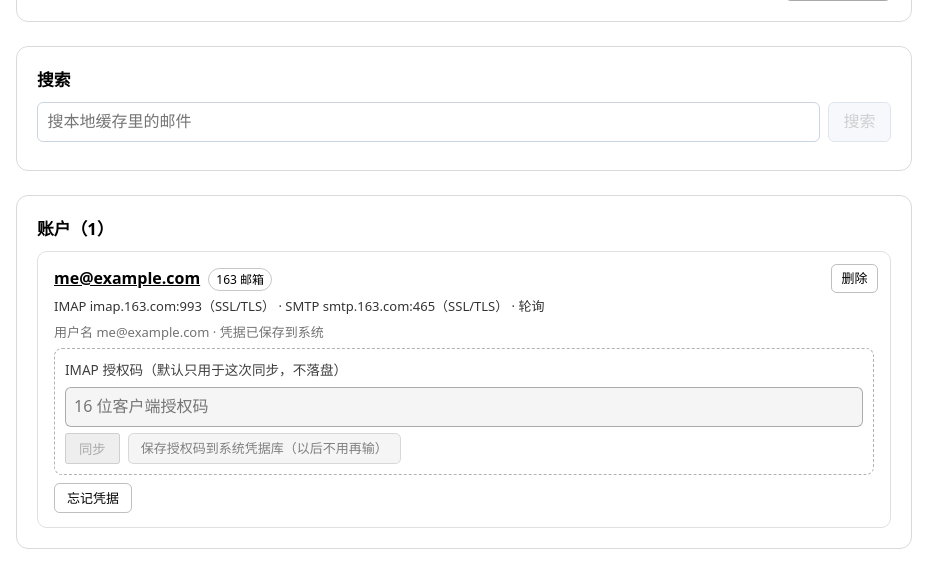
it: 邮件正文渲染 › 后端给了 HTML 就按 HTML 显示，不当成源码打印
(page scrolled)
Step 1. Click the button "me@example.com" → x=127, y=278, box [54,266,200,291]
(page scrolled)
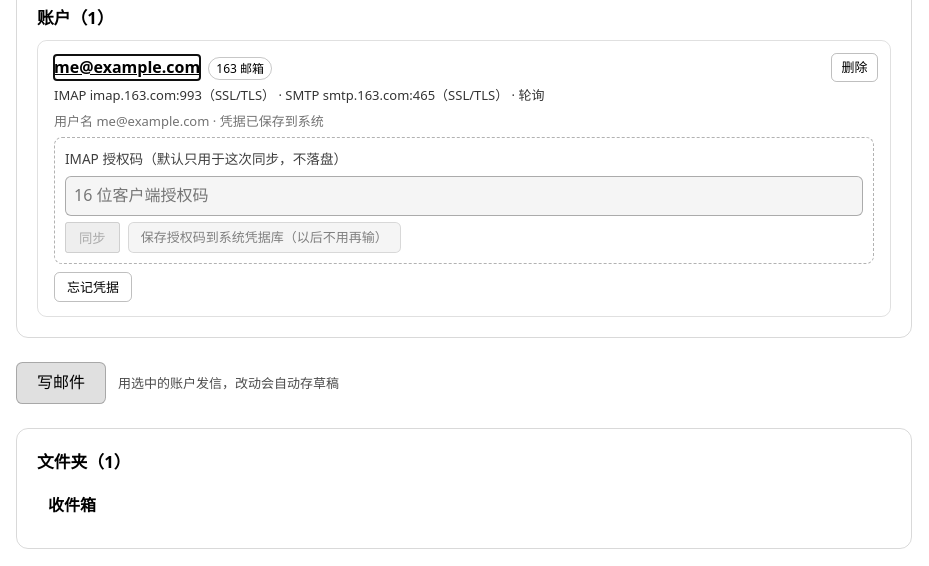
Step 2. Click the button "收件箱" → x=72, y=505, box [37,484,891,528]
(page scrolled)
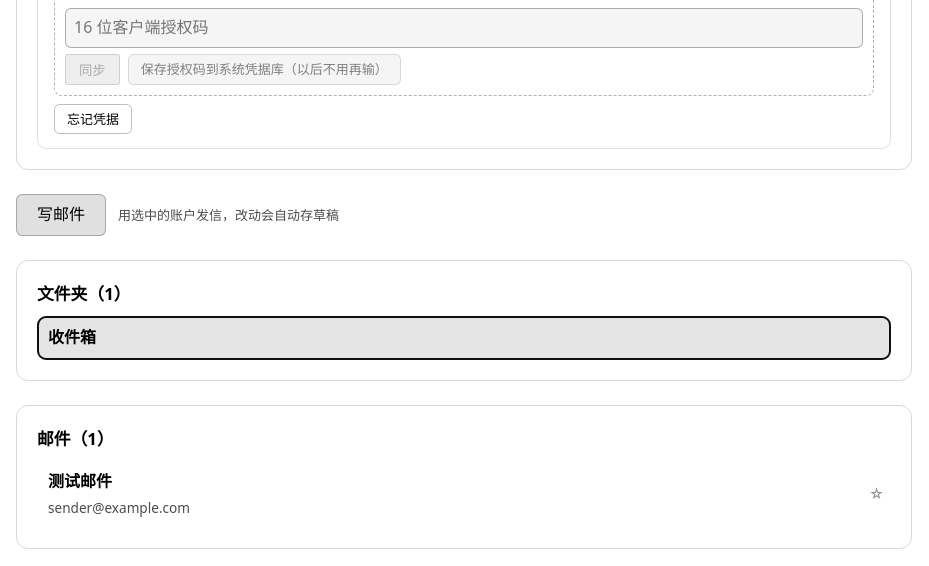
Step 3. Click the button "测试邮件 sender@example.com" → x=80, y=481, box [37,460,860,528]
(page scrolled)
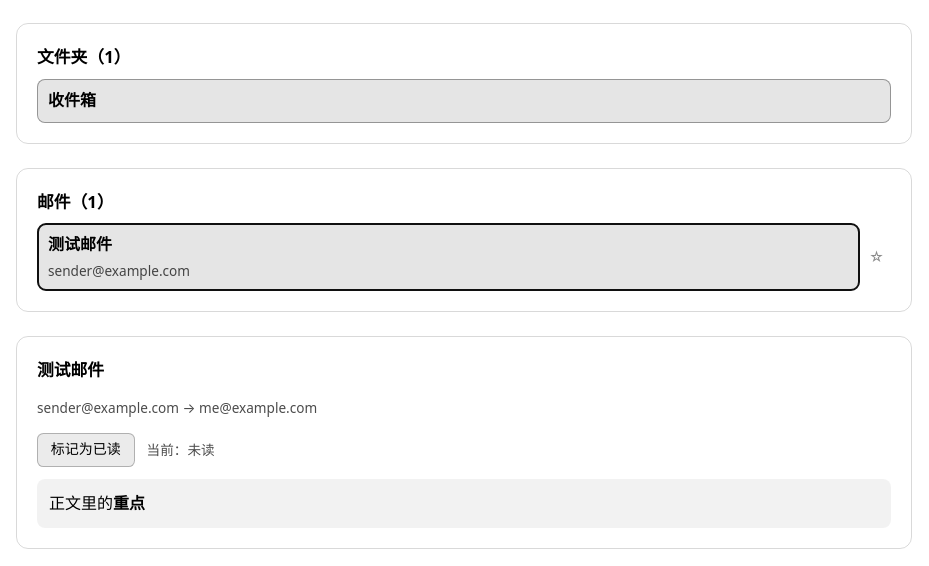
Now the text "重点" is shown, box [113,492,145,514]
